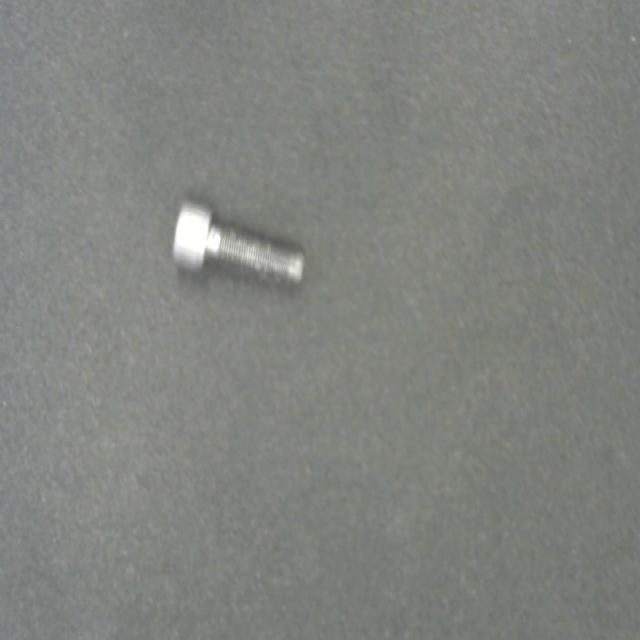SocketHeadCapScrew: (170, 197, 306, 288)
